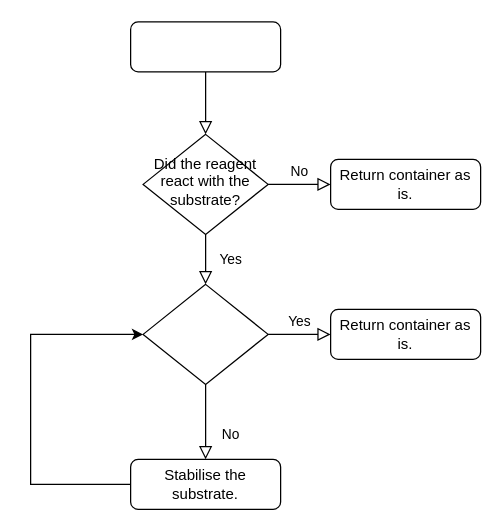
The diagram is 503 pixels wide and 531 high, and some of its shapes have lost their labels. Each missing label, with the box of its shape:
Add reagent to container: (129, 21, 281, 72)
Is the substrate stable?: (142, 283, 268, 384)
